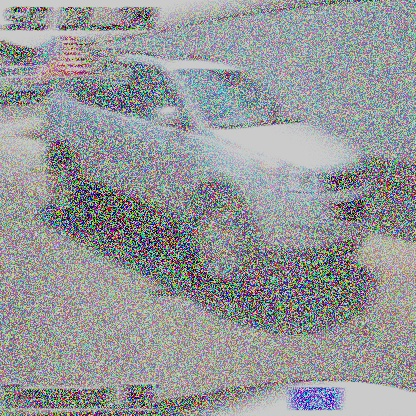Vehicle: (41, 50, 375, 298)
